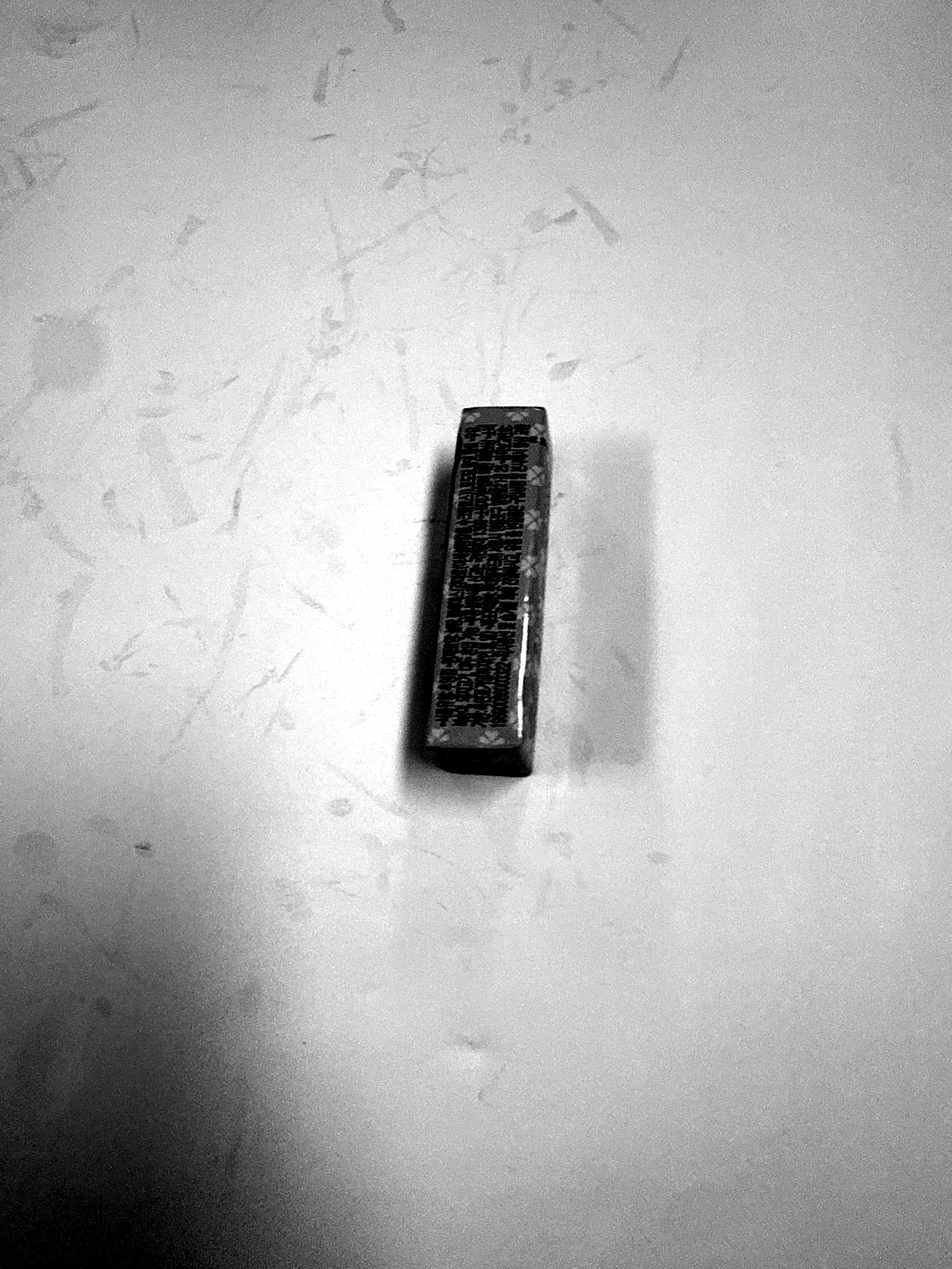gum_yellow: (419, 403, 552, 774)
